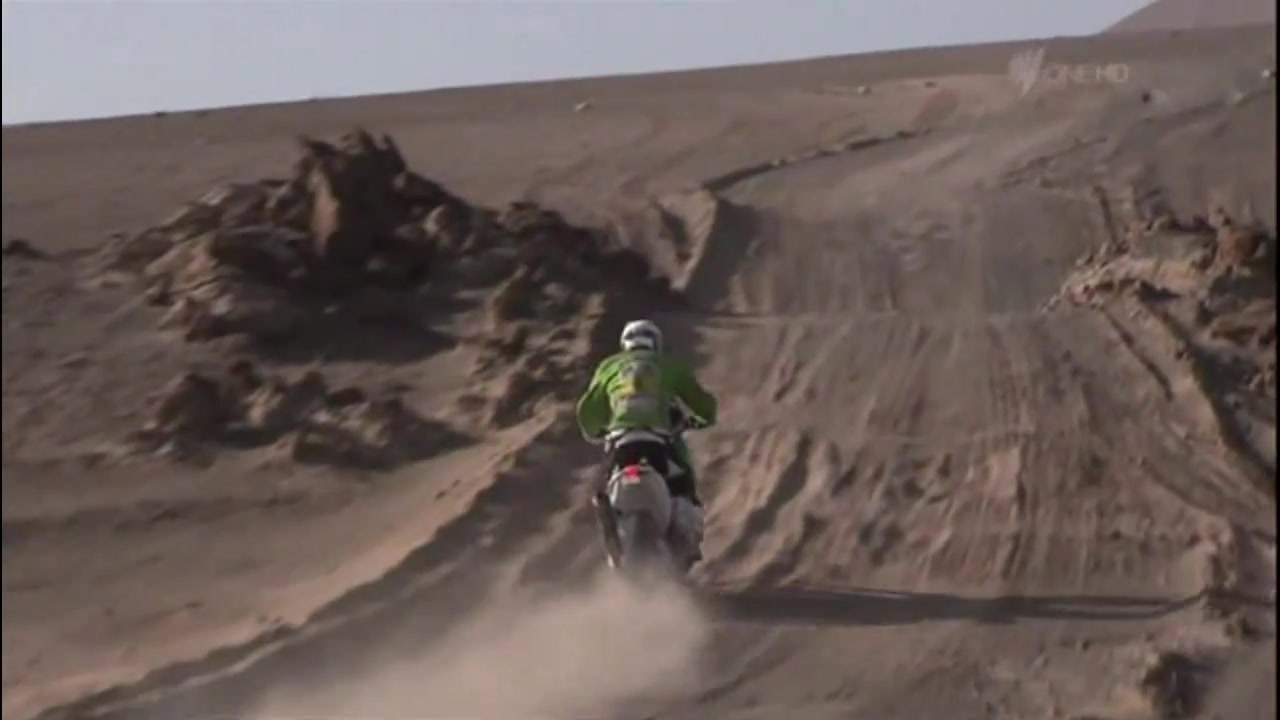motorbike: (586, 433, 706, 574)
